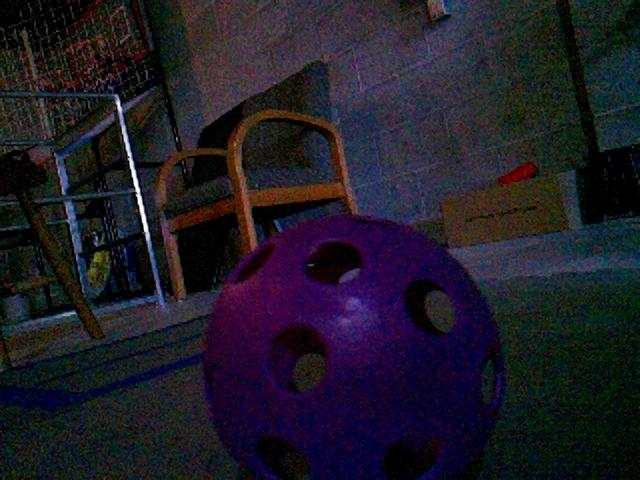Purple: (199, 215, 501, 477)
